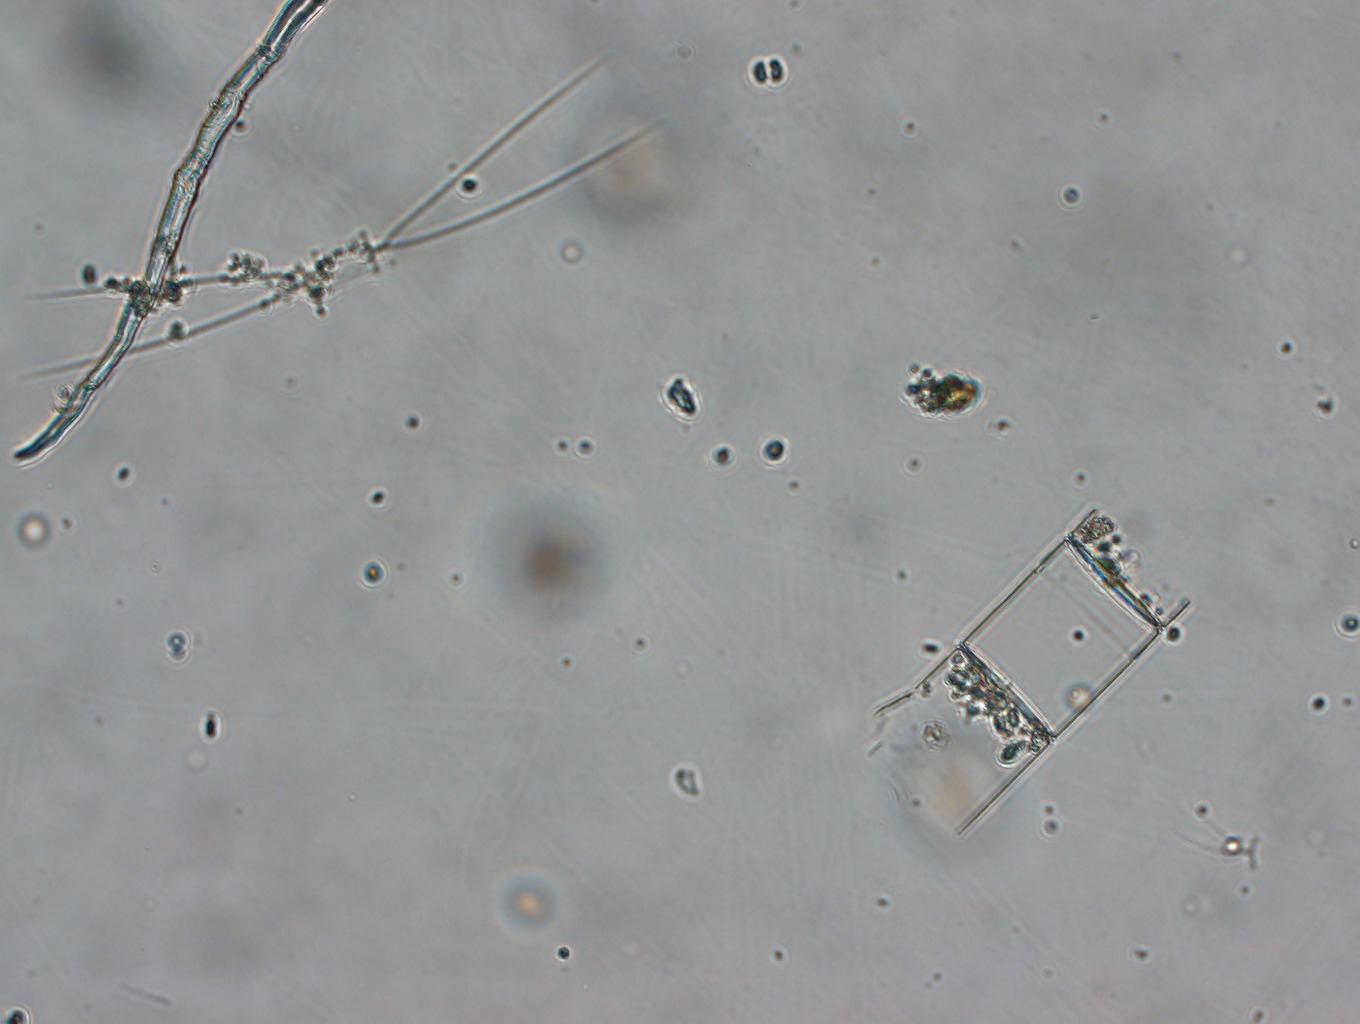chaetoceros: (37, 88, 706, 388)
guinardia flaccida: (867, 503, 1205, 845)
